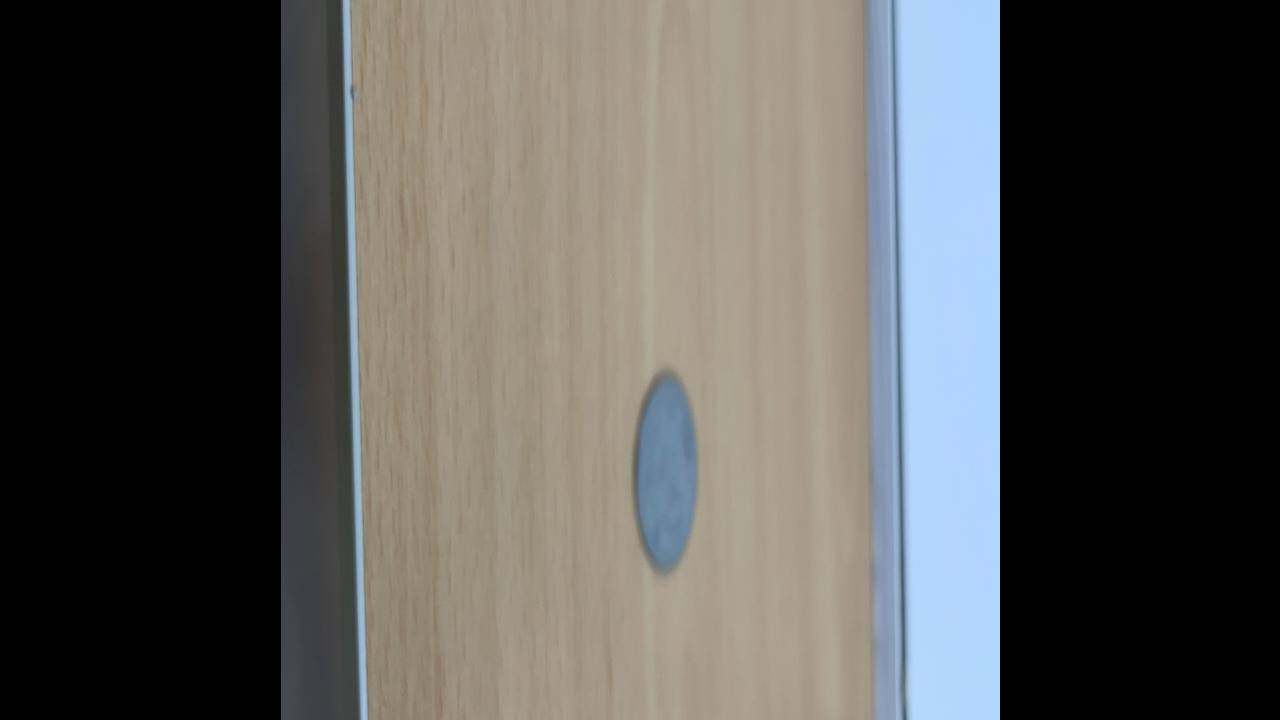coin: (631, 368, 700, 580)
